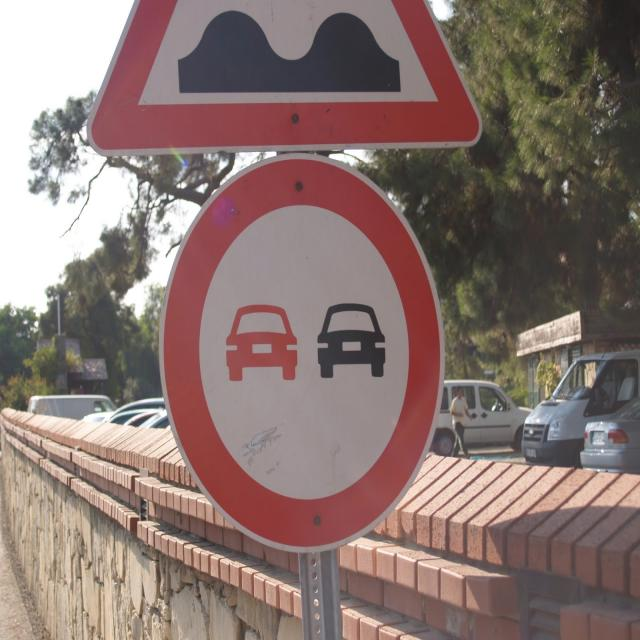no overtaking: (158, 148, 450, 558)
